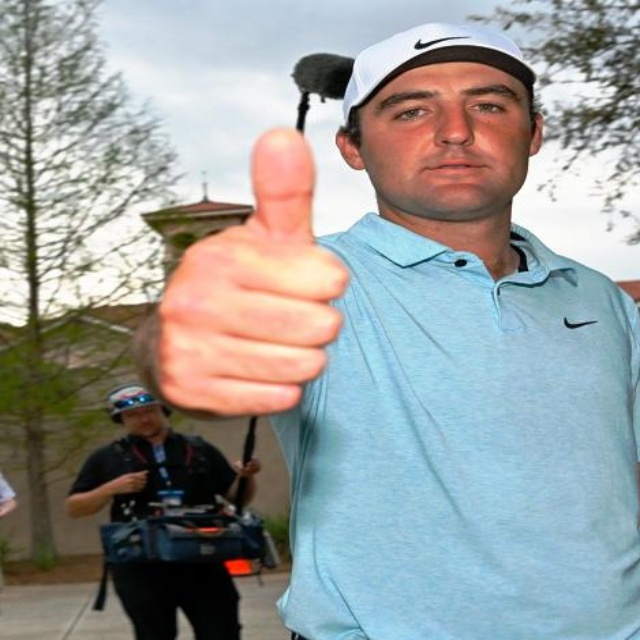thumbs_up: (148, 124, 356, 427)
